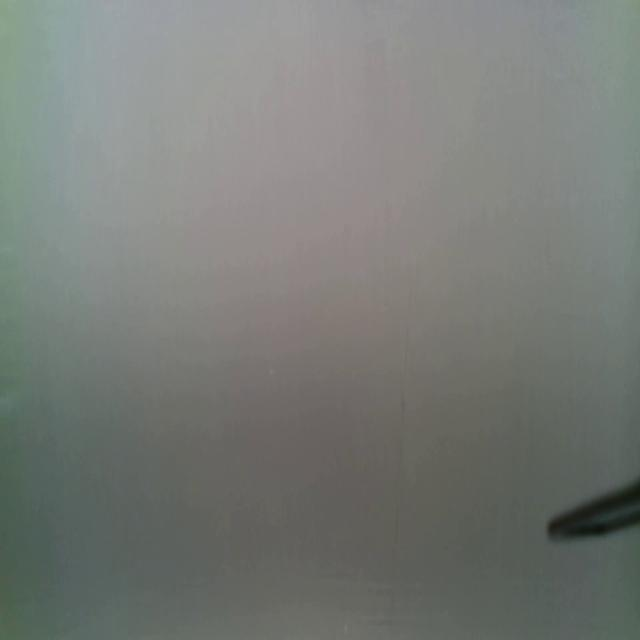crease: (388, 311, 412, 613)
